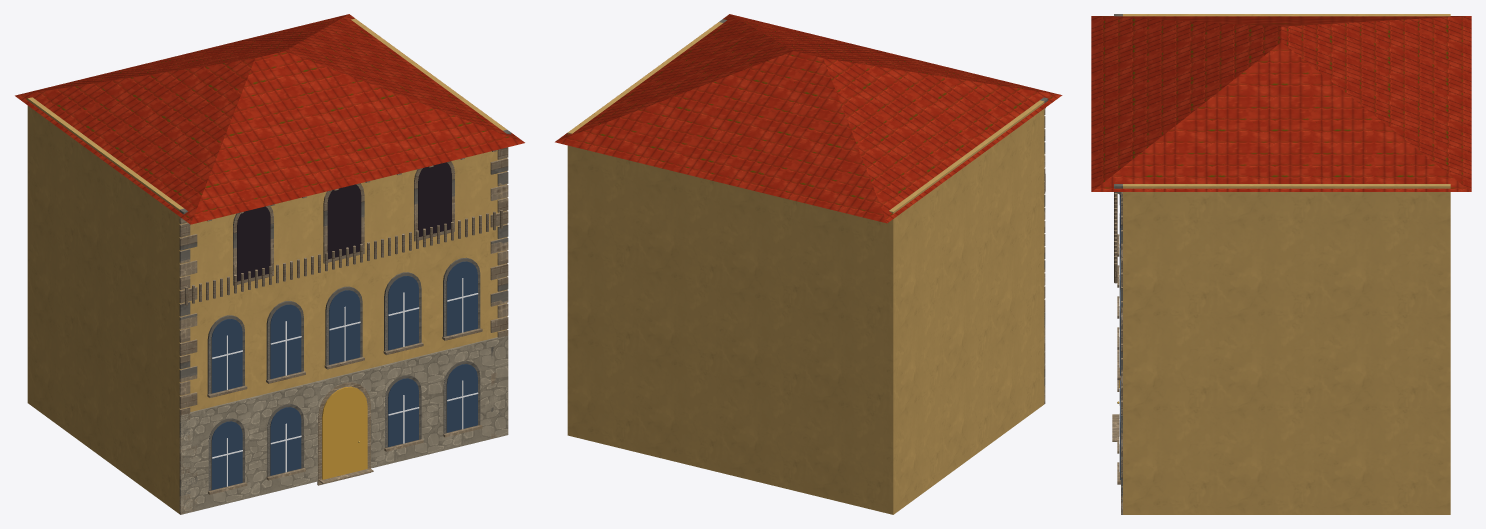
File: palacete_w12_0.gltf
The picture shows the model from 3 angles, left to right: view 1: azimuth 30°, elevation 25°; view 2: azimuth 150°, elevation 25°; view 3: azimuth 270°, elevation 25°; orthographic projection. The views are drawn at different scales.
Parts seen in each view (by area): view 1: palacete_w12_0; view 2: palacete_w12_0; view 3: palacete_w12_0.
Boxes of the visible parts, x1=… form: palacete_w12_0: x1=15, y1=14, x2=524, y2=514; palacete_w12_0: x1=555, y1=14, x2=1062, y2=514; palacete_w12_0: x1=1091, y1=14, x2=1471, y2=514.
Size of what is drawn, in the model's own units: 11.96 by 12.62 by 10.9.
7 materials, 4 textured.
